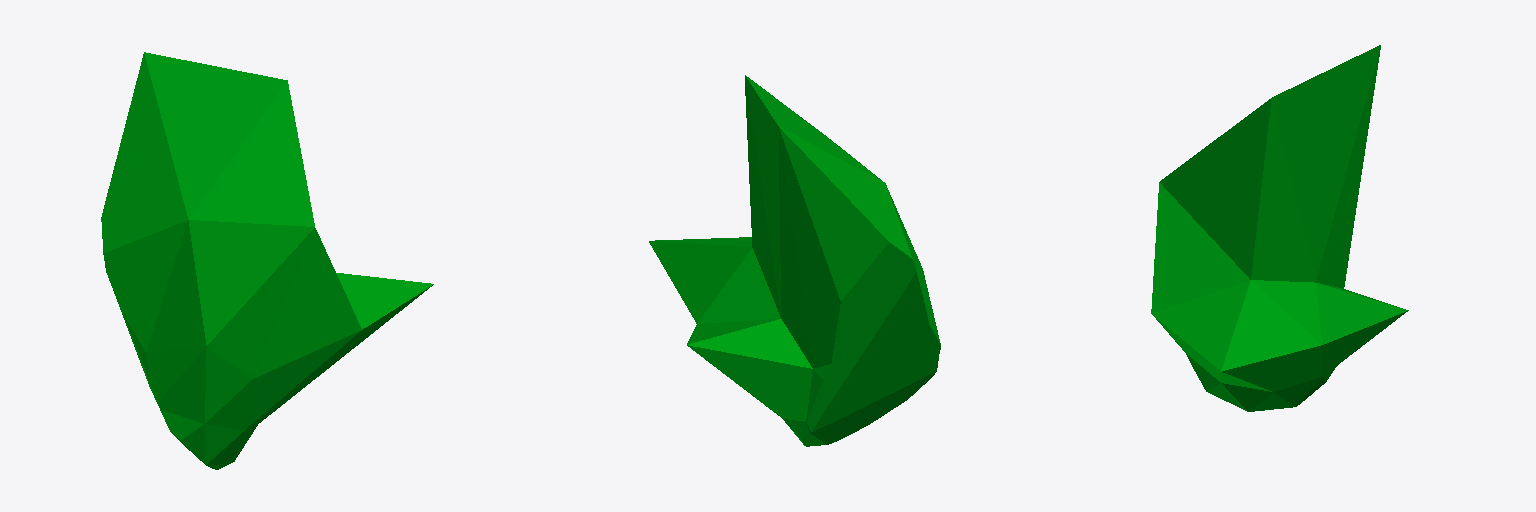
Rendered from aquaticbush_3.obj.
3 views of the same model, side by side, from view 1: azimuth 30°, elevation 25°; view 2: azimuth 150°, elevation 25°; view 3: azimuth 270°, elevation 25° (orthographic).
Parts seen in each view (by area): view 1: Icosphere.005; view 2: Icosphere.005; view 3: Icosphere.005.
Boxes of the visible parts, x1=… form: Icosphere.005: x1=101, y1=52, x2=433, y2=469; Icosphere.005: x1=649, y1=75, x2=940, y2=446; Icosphere.005: x1=1151, y1=45, x2=1408, y2=411.
Size of the model in its own units: 1.51 by 1.75 by 1.13.